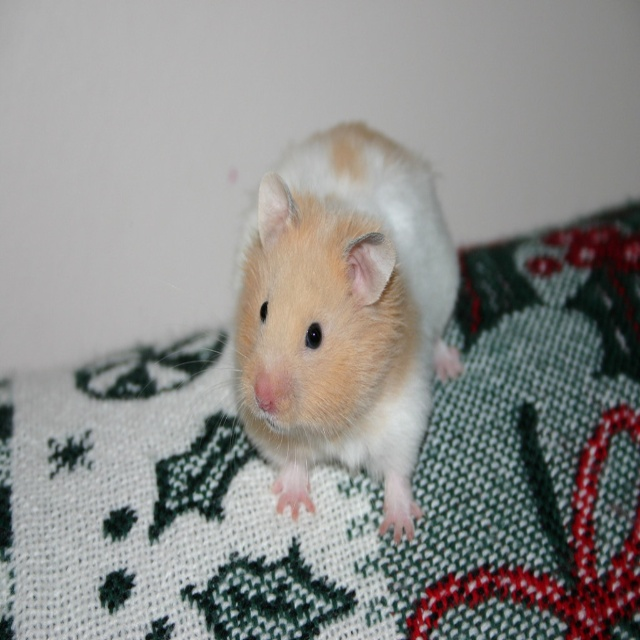Hamster: (141, 118, 463, 539)
